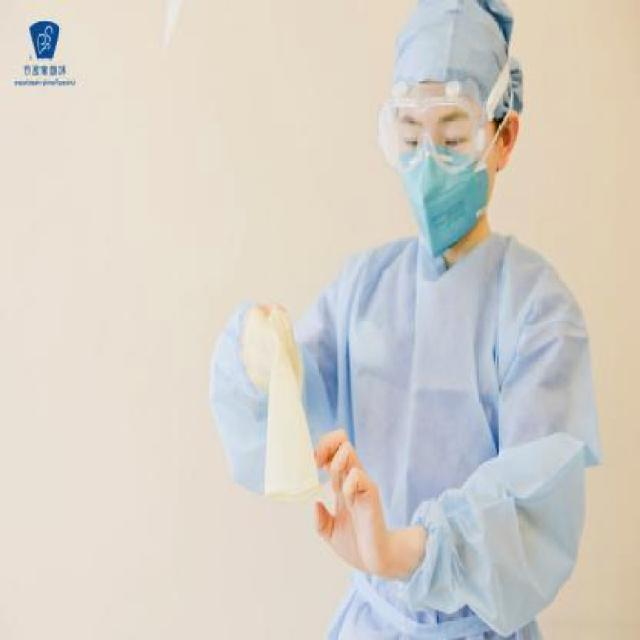face_mask: (394, 92, 494, 251)
glasses: (376, 86, 489, 174)
hand_noglove: (310, 428, 384, 577)
head_nohelmet: (371, 5, 523, 116)
person: (219, 1, 590, 640)
